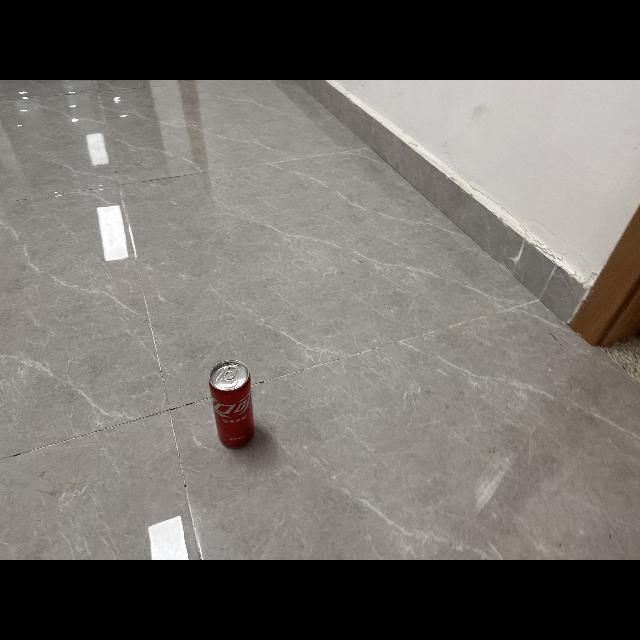Cola: (206, 358, 264, 454)
